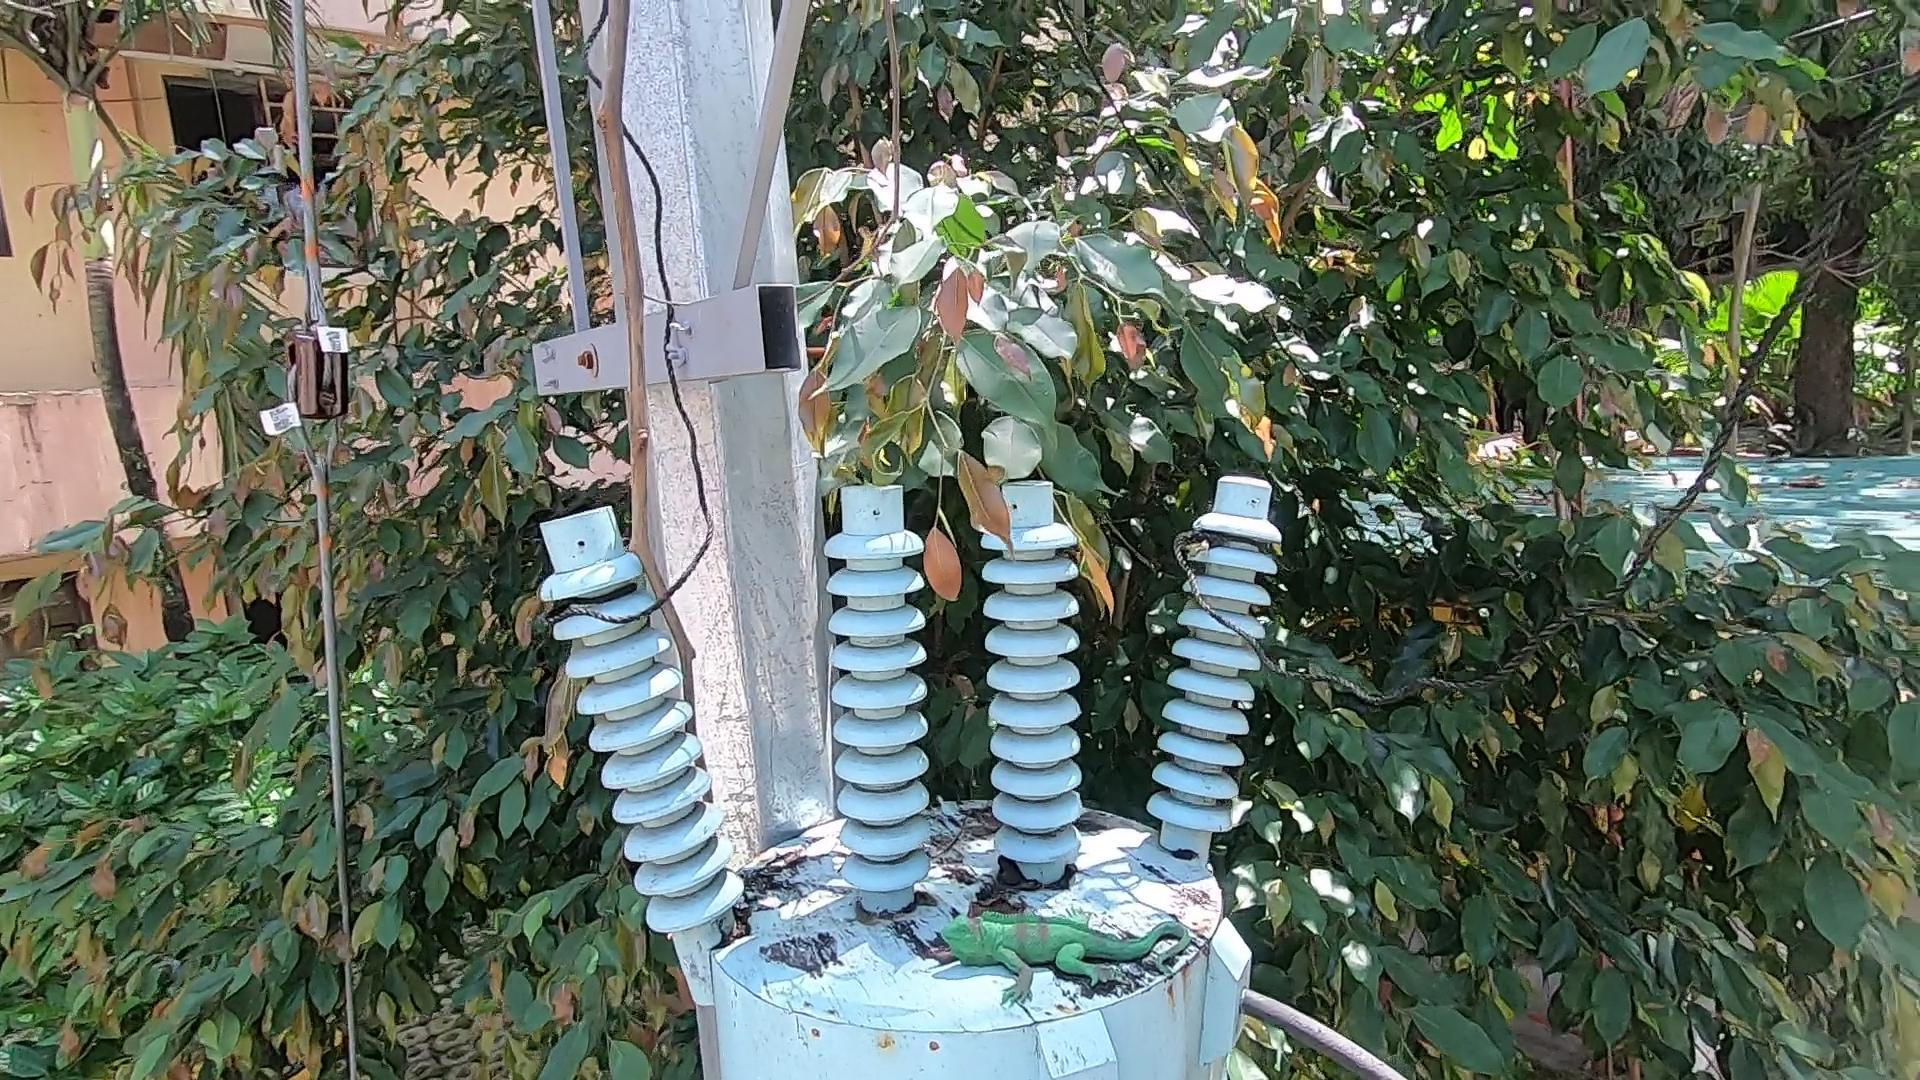branch with leaves: (824, 360, 1139, 637)
leaf: (727, 889, 770, 952), (971, 864, 1019, 919)
tree branch: (560, 5, 742, 866)
